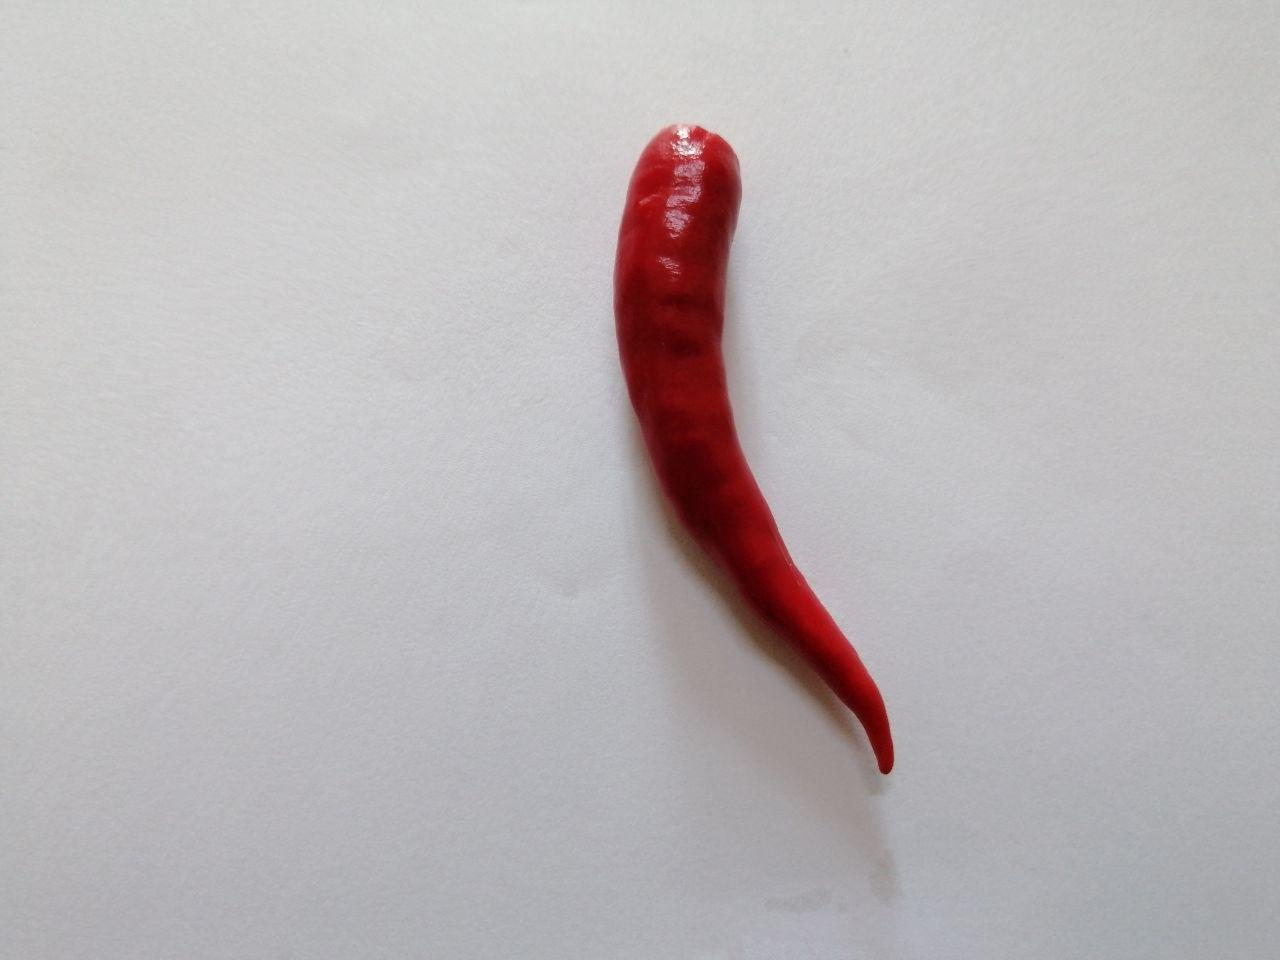lada merah: (581, 112, 922, 794)
